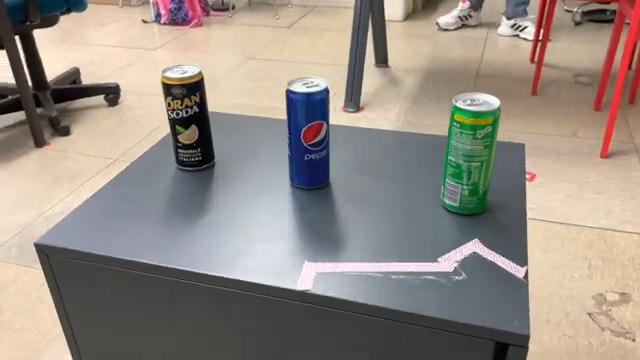OranSoda: (156, 60, 220, 174)
Pepsi: (280, 72, 336, 196)
Sprite: (437, 89, 503, 218)
